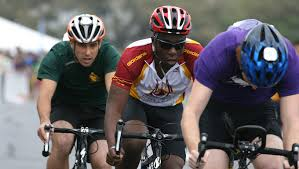helmet: (244, 25, 287, 85), (147, 4, 194, 33), (65, 12, 105, 43)
